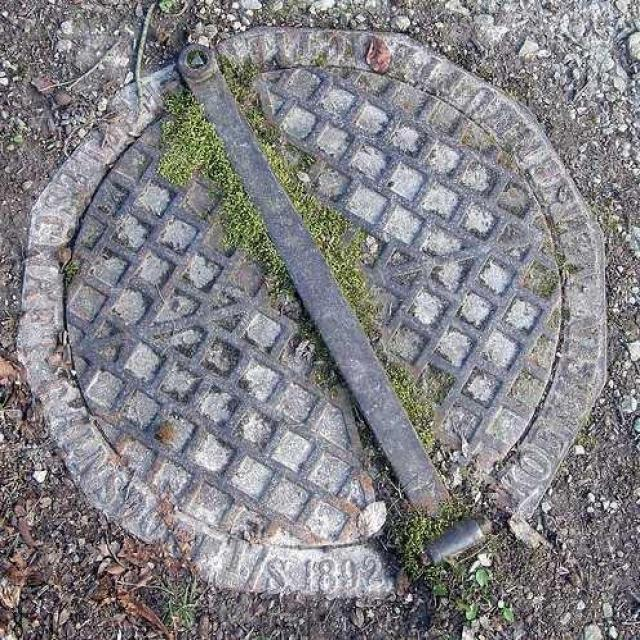manhole: (20, 70, 392, 594), (218, 27, 605, 513), (231, 140, 353, 372)
